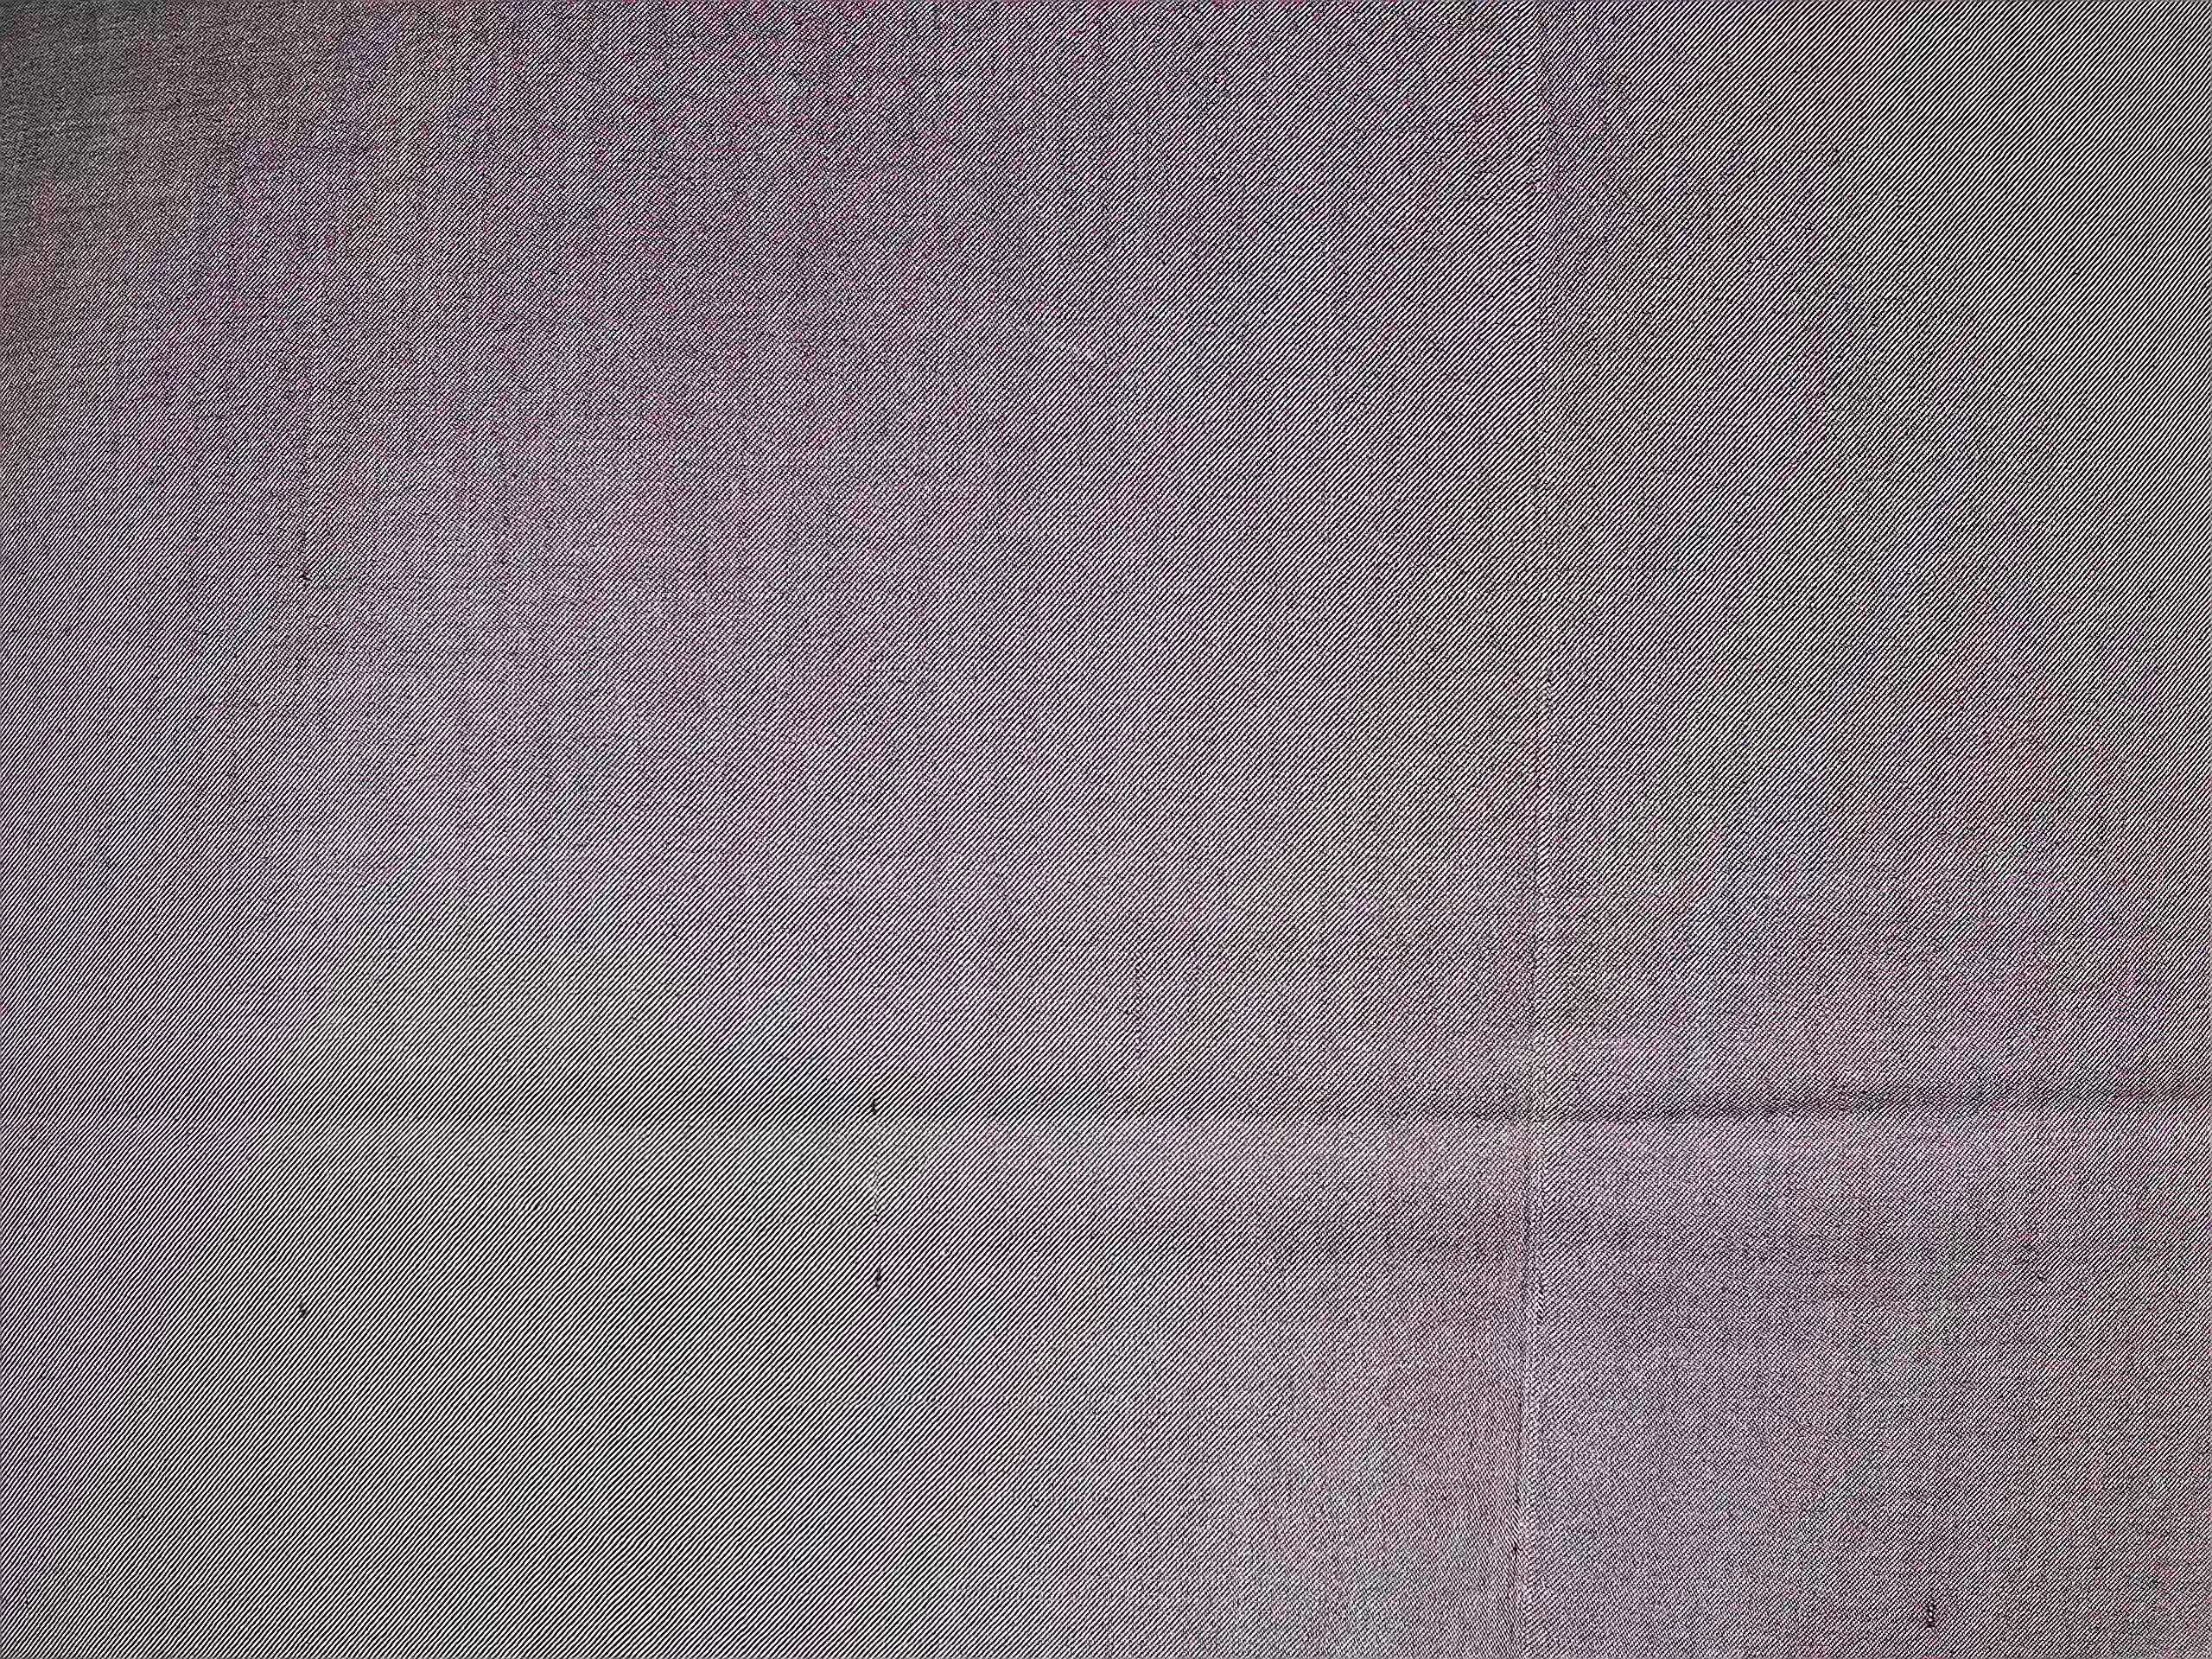hanging-warp: (1496, 631, 1562, 1656), (866, 1089, 892, 1310), (1912, 1575, 1951, 1645)
